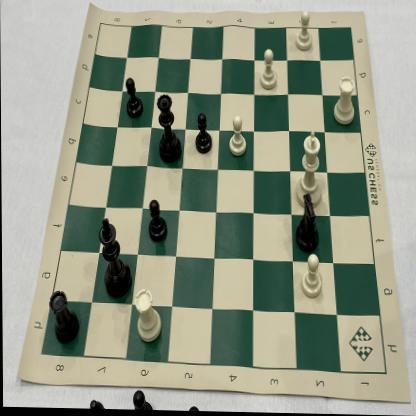black-king: (97, 216, 135, 303)
black-knight: (291, 192, 322, 253)
black-pawn: (145, 197, 169, 248), (123, 74, 144, 123), (194, 112, 214, 158)
black-queen: (156, 91, 182, 166)
black-rook: (47, 288, 80, 348), (133, 286, 164, 345)
white-king: (294, 125, 325, 210)
white-pawn: (300, 253, 325, 300), (258, 47, 280, 92), (227, 114, 248, 161), (294, 10, 315, 53)
white-rook: (331, 76, 358, 126)
